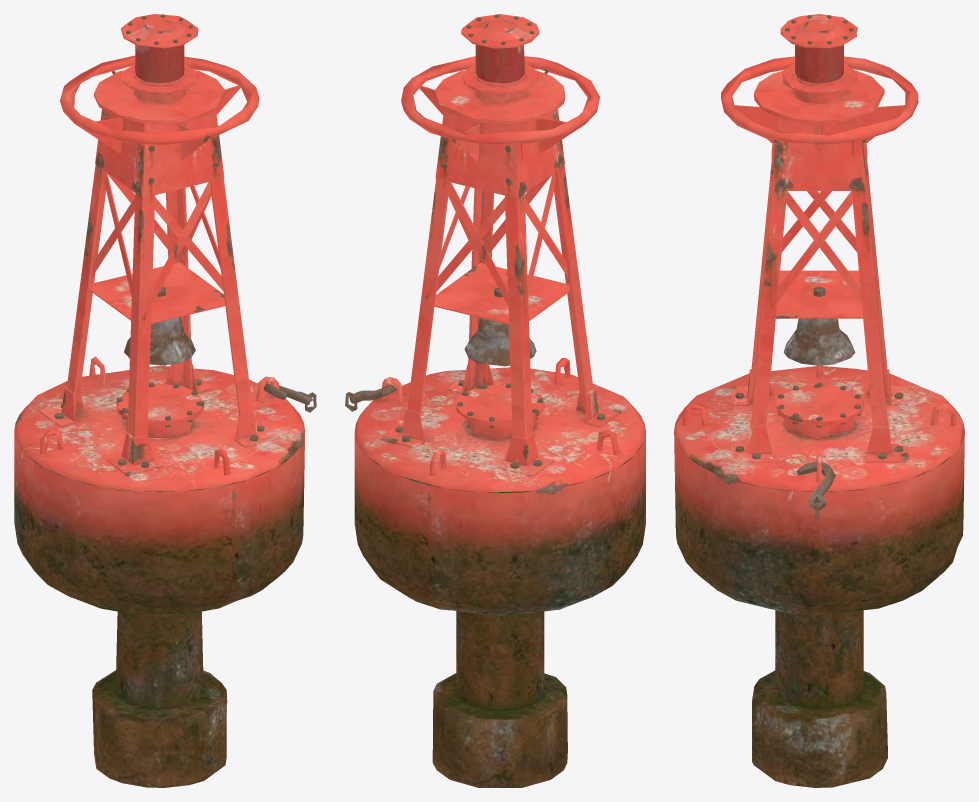
File: ph-ocean_buoy.glb
The picture shows the model from 3 angles, left to right: view 1: azimuth 30°, elevation 25°; view 2: azimuth 150°, elevation 25°; view 3: azimuth 270°, elevation 25°; orthographic projection.
Visible parts, largest first — view 1: ocean_buoy; view 2: ocean_buoy; view 3: ocean_buoy.
Part boxes in pixels (bbox=[...]): ocean_buoy: bbox=[14, 14, 316, 787]; ocean_buoy: bbox=[345, 14, 645, 787]; ocean_buoy: bbox=[674, 14, 964, 787].
Size of the model in its own units: 1.06 by 2.65 by 0.9523.
Materials: 1 (1 with a texture image).
